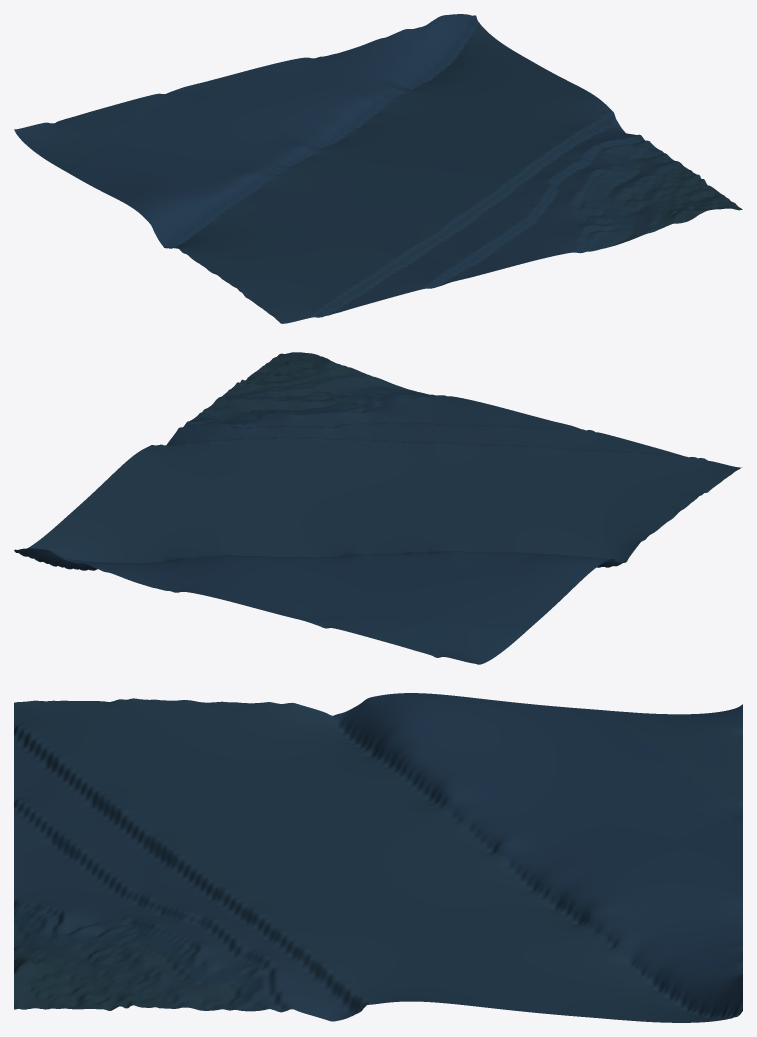
Rendered from 27_49_minimap_reconstructed.glb.
3 renders of one model, top to bottom at view 1: azimuth 30°, elevation 25°; view 2: azimuth 150°, elevation 25°; view 3: azimuth 270°, elevation 25°, orthographic. The views are drawn at different scales.
Visible parts, largest first — view 1: TerrainTile; view 2: TerrainTile; view 3: TerrainTile.
Part boxes in pixels (left/top/right/bottom): TerrainTile: left=14, top=14, right=742, bottom=323; TerrainTile: left=14, top=352, right=742, bottom=664; TerrainTile: left=14, top=693, right=742, bottom=1022.
Bounding box in the file's own units: 533 × 40 × 533.
Materials: 1 (1 with a texture image).
